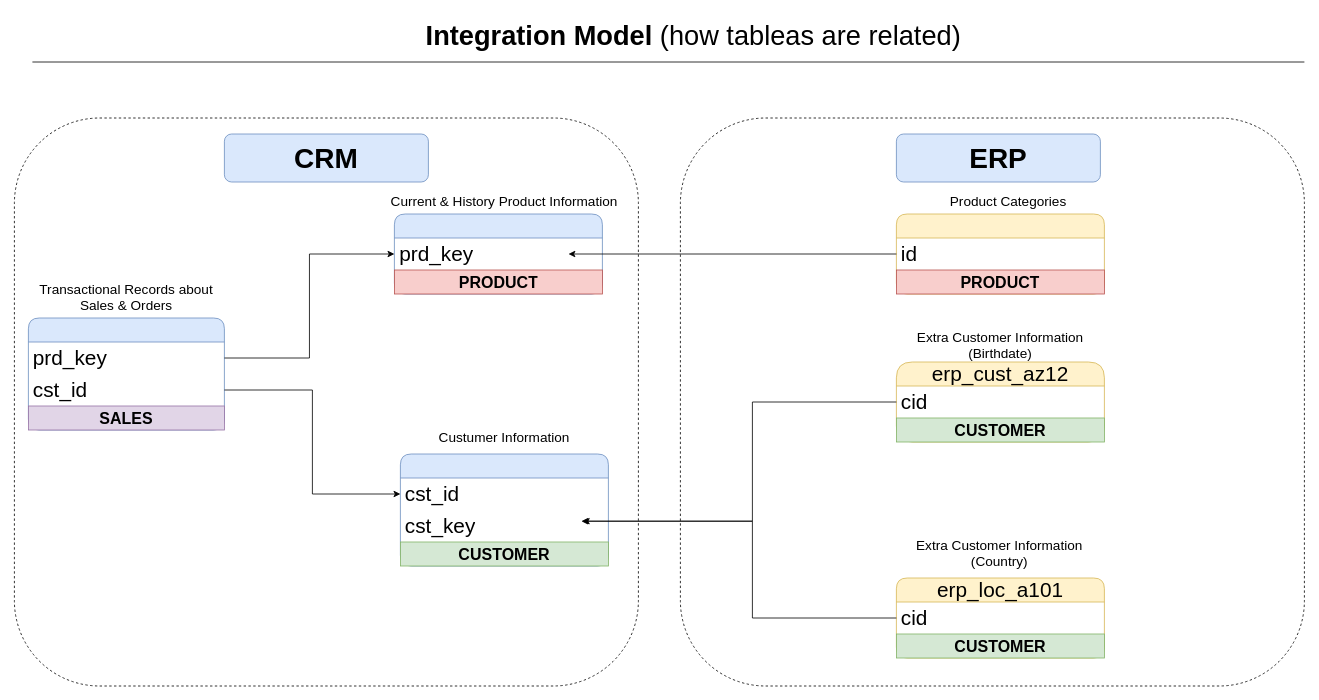
This 1319x700 diagram has some shape labels left out. Here are the shapes that lost their labels. From the top down, the box of each, then its label:
(394, 213, 602, 294): crm_prd_info
(896, 213, 1104, 294): erp_px_cat_g1v2
(28, 317, 224, 430): crm_sales_details
(400, 453, 608, 566): crm_cust_info
